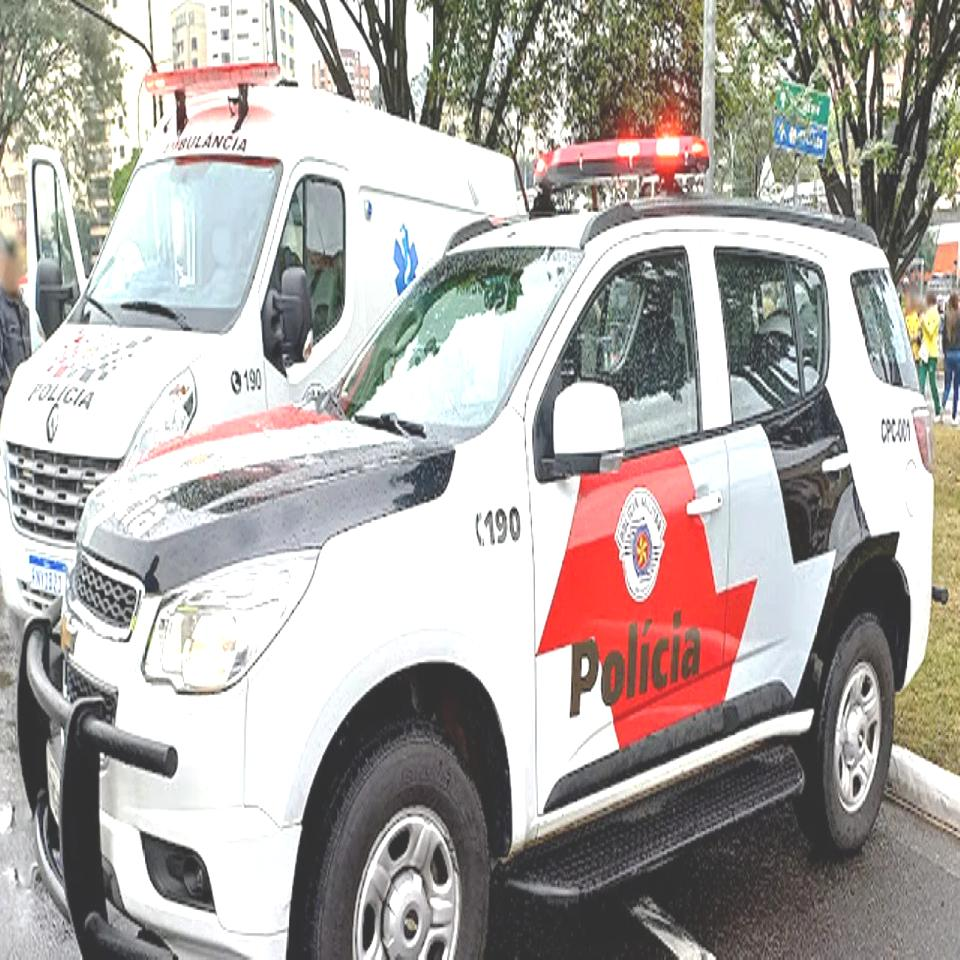viatura: (15, 121, 937, 960)
